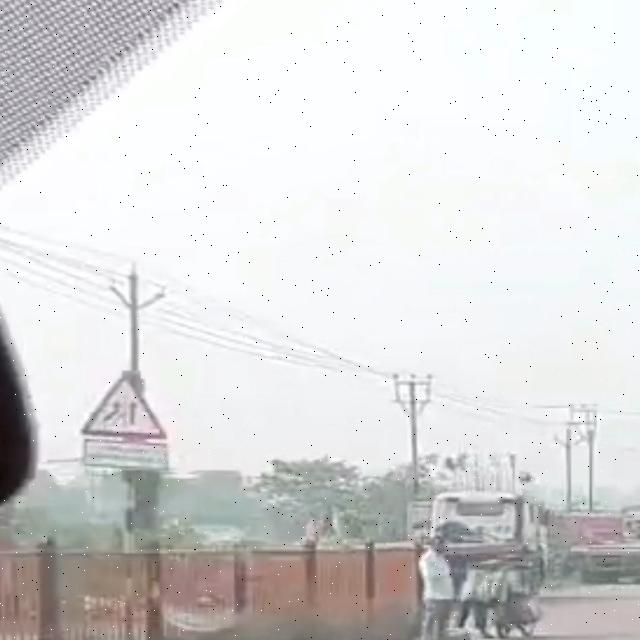merging_traffic_from_left: (83, 372, 166, 438)
